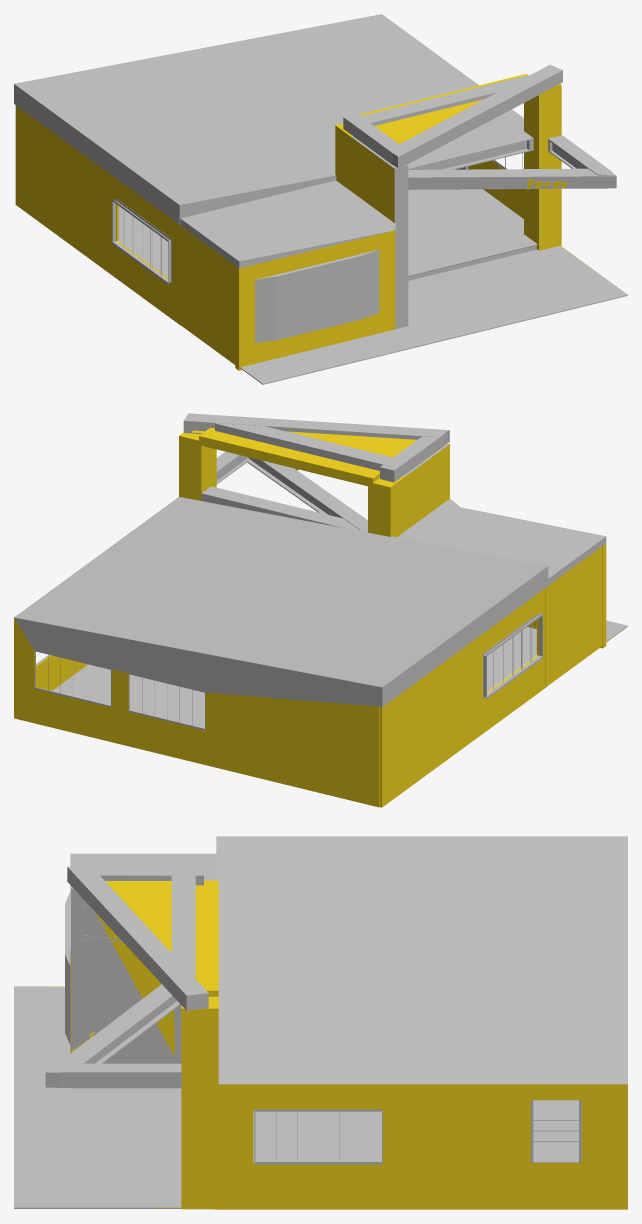
The model's file is habitacion.obj.
The picture shows the model from 3 angles, top to bottom: view 1: azimuth 30°, elevation 25°; view 2: azimuth 150°, elevation 25°; view 3: azimuth 270°, elevation 25°; orthographic projection. The views are drawn at different scales.
Visible parts, largest first — view 1: polySurface13 polySurface8 cimientos Gym Techo, polySurface8 cimientos Gym polySurface27 polySurface14, polySurface20 polySurface18 polySurface15 polySurface13 polySurf, techo2, letterFI, pasted__pasted__pasted__pCube1 pasted__pasted__group1 pasted__gr, polySurface8 cimientos Gym polySurface14 polySurface28, pasted__pasted__pasted__pasted__pCube1 pasted__pasted__pasted__g, pasted__pasted__pCube1 pasted__group1 Letter, columna1, barraInt2 polySurface31, pasted__group6_pasted__pCube1 barraFront (+9 smaller); view 2: polySurface13 polySurface8 cimientos Gym Techo, polySurface20 polySurface18 polySurface15 polySurface13 polySurf, techo2, pasted__pasted__pasted__pasted__pCube1 pasted__pasted__pasted__g, polySurface8 cimientos Gym polySurface14 polySurface28, columnaHorizontal, barraInt2 polySurface31, polySurface29 barraInt2, pasted__pasted__pCube1 pasted__group1 Letter, pasted__group6_pasted__pCube1 barraFront, columna1, pasted__pCube1 columna2 (+9 smaller); view 3: polySurface13 polySurface8 cimientos Gym Techo, polySurface20 polySurface18 polySurface15 polySurface13 polySurf, polySurface8 cimientos Gym polySurface27 polySurface14, pasted__pasted__pCube1 pasted__group1 Letter, polySurface8 cimientos Gym polySurface14 polySurface28, columna1, barraInt2 polySurface31, pasted__group6_pasted__pCube1 barraDer, pasted__group6_pasted__pCube1 barraFront, columnaHorizontal, polySurface29 barraInt2, techoBarras (+5 smaller).
Boxes of the visible parts, x1=… form: polySurface13 polySurface8 cimientos Gym Techo: x1=14, y1=14, x2=523, y2=224; polySurface8 cimientos Gym polySurface27 polySurface14: x1=240, y1=246, x2=627, y2=384; polySurface20 polySurface18 polySurface15 polySurface13 polySurf: x1=15, y1=105, x2=606, y2=376; techo2: x1=180, y1=180, x2=395, y2=268; letterFI: x1=255, y1=249, x2=379, y2=343; pasted__pasted__pasted__pCube1 pasted__pasted__group1 pasted__gr: x1=235, y1=230, x2=395, y2=370; polySurface8 cimientos Gym polySurface14 polySurface28: x1=118, y1=189, x2=523, y2=277; pasted__pasted__pasted__pasted__pCube1 pasted__pasted__pasted__g: x1=179, y1=225, x2=235, y2=364; pasted__pasted__pCube1 pasted__group1 Letter: x1=350, y1=135, x2=408, y2=328; columna1: x1=524, y1=84, x2=561, y2=250; barraInt2 polySurface31: x1=391, y1=65, x2=562, y2=169; pasted__group6_pasted__pCube1 barraFront: x1=408, y1=168, x2=616, y2=189; polySurface13 polySurface8 cimientos Gym Techo: x1=14, y1=497, x2=548, y2=707; polySurface20 polySurface18 polySurface15 polySurface13 polySurf: x1=14, y1=588, x2=617, y2=807; techo2: x1=397, y1=498, x2=606, y2=585; pasted__pasted__pasted__pasted__pCube1 pasted__pasted__pasted__g: x1=545, y1=546, x2=602, y2=686; polySurface8 cimientos Gym polySurface14 polySurface28: x1=52, y1=664, x2=508, y2=728; columnaHorizontal: x1=199, y1=428, x2=379, y2=487; barraInt2 polySurface31: x1=183, y1=413, x2=449, y2=443; polySurface29 barraInt2: x1=215, y1=423, x2=403, y2=470; pasted__pasted__pCube1 pasted__group1 Letter: x1=403, y1=443, x2=449, y2=530; pasted__group6_pasted__pCube1 barraFront: x1=247, y1=457, x2=367, y2=531; columna1: x1=179, y1=430, x2=216, y2=500; pasted__pCube1 columna2: x1=368, y1=476, x2=405, y2=537; polySurface13 polySurface8 cimientos Gym Techo: x1=216, y1=836, x2=627, y2=1084; polySurface20 polySurface18 polySurface15 polySurface13 polySurf: x1=47, y1=986, x2=627, y2=1209; polySurface8 cimientos Gym polySurface27 polySurface14: x1=14, y1=986, x2=181, y2=1208; pasted__pasted__pCube1 pasted__group1 Letter: x1=71, y1=886, x2=181, y2=1088; polySurface8 cimientos Gym polySurface14 polySurface28: x1=253, y1=1100, x2=578, y2=1162; columna1: x1=181, y1=996, x2=218, y2=1209; barraInt2 polySurface31: x1=67, y1=866, x2=208, y2=1010; pasted__group6_pasted__pCube1 barraDer: x1=46, y1=1063, x2=181, y2=1087; pasted__group6_pasted__pCube1 barraFront: x1=45, y1=984, x2=180, y2=1087; columnaHorizontal: x1=195, y1=885, x2=218, y2=996; polySurface29 barraInt2: x1=171, y1=868, x2=195, y2=978; techoBarras: x1=105, y1=881, x2=171, y2=952.
Bounding box in the file's own units: 67.65 × 30.4 × 77.35.
